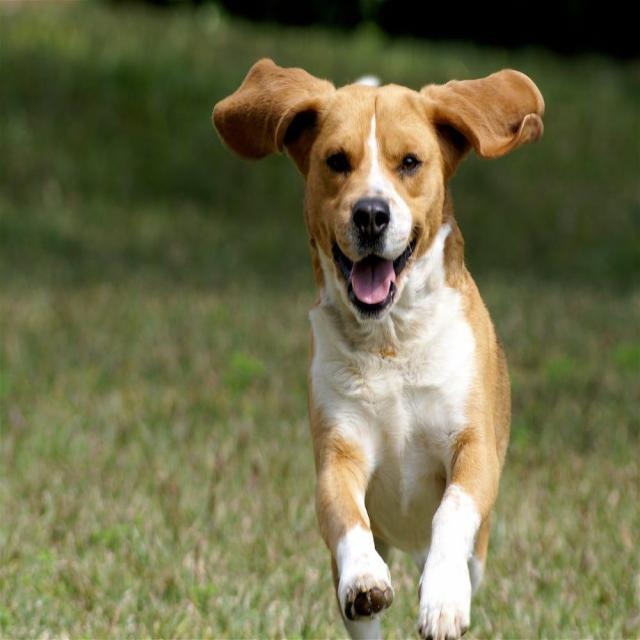Dog: (206, 31, 553, 342)
